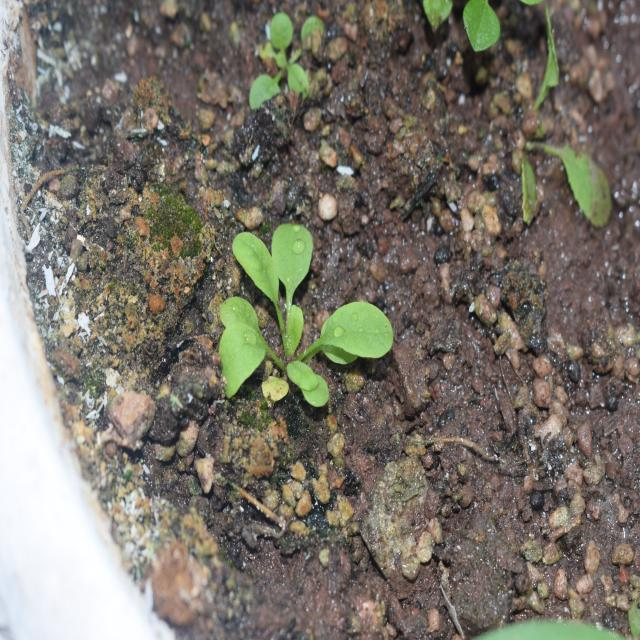Shepherd_Purse: (221, 195, 392, 425)
